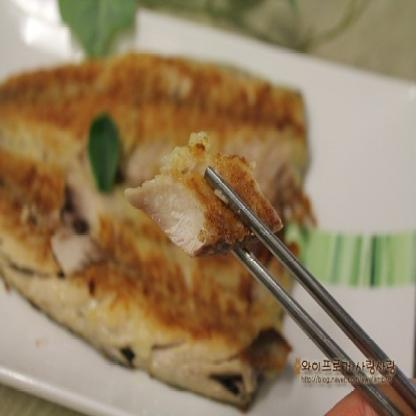Peixe: (0, 60, 326, 374), (156, 141, 270, 240)
